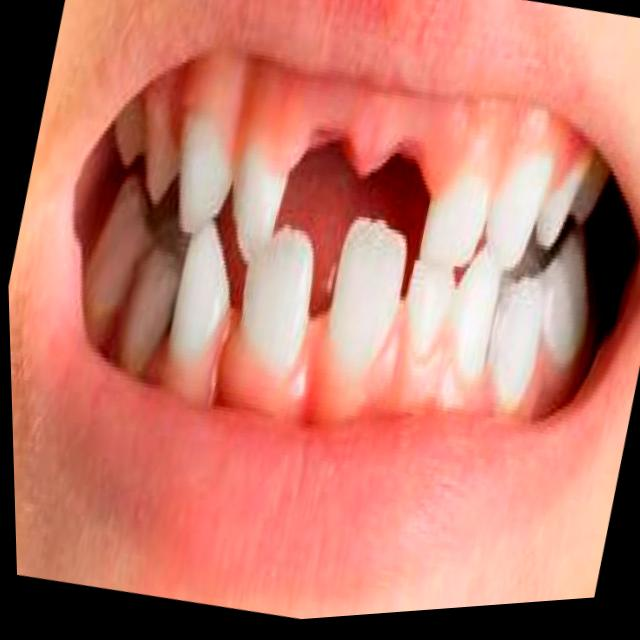hypodontia: (255, 69, 495, 284)
